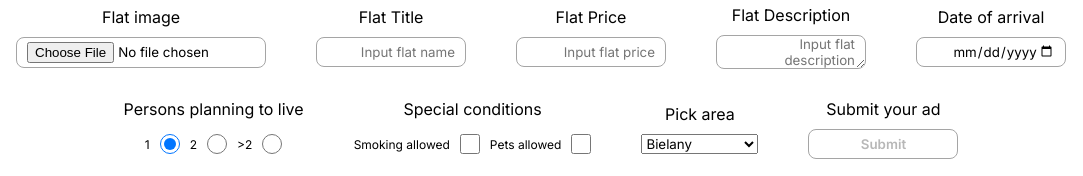
Test: Form tests › Should disable button after submit if input is invalid
Type "test value" into the field with test id "title" at point(391, 52), box [316, 37, 466, 67]
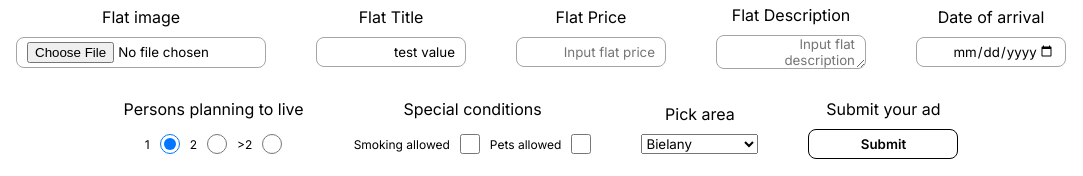
Click the button with test id "submit" at point(883, 144), box [808, 129, 958, 159]
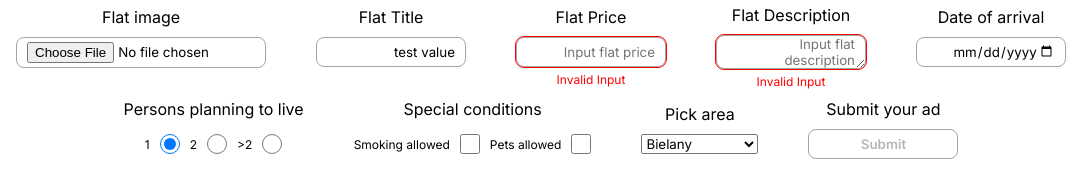
Check: the button with test id "submit" is disabled, box [808, 129, 958, 159]
